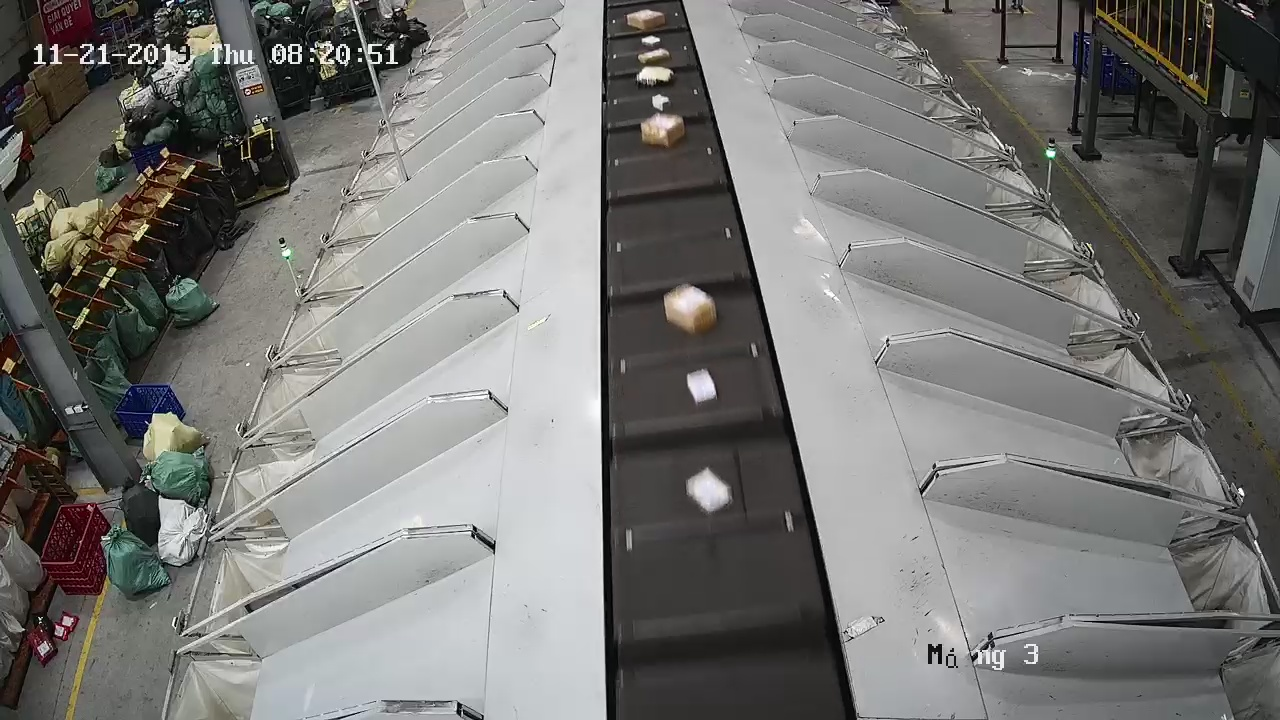parcel: (687, 467, 736, 522)
